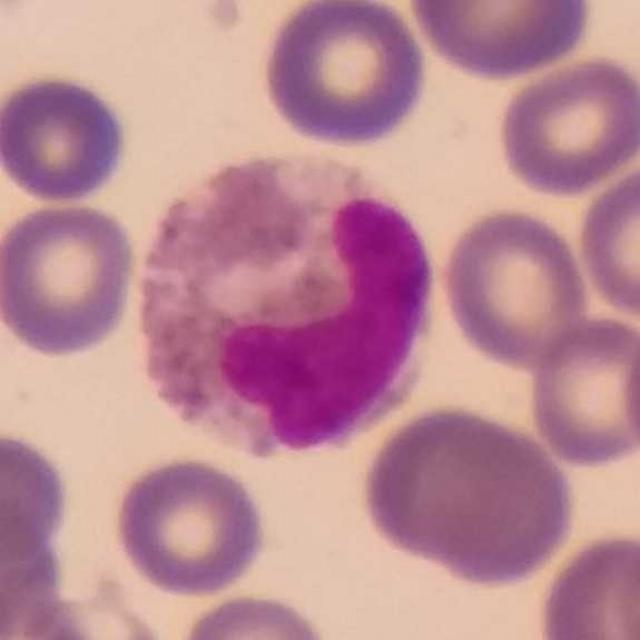Eosinophil: (126, 146, 448, 459)
RBC: (356, 400, 581, 588), (436, 201, 594, 373), (256, 0, 432, 151), (108, 452, 270, 600), (1, 198, 141, 361), (492, 51, 640, 198), (523, 313, 640, 472), (0, 69, 134, 206), (404, 0, 600, 82), (532, 526, 640, 640), (573, 159, 640, 325), (0, 425, 76, 569), (1, 580, 172, 640), (0, 500, 65, 640), (172, 589, 338, 640), (617, 304, 640, 475)
